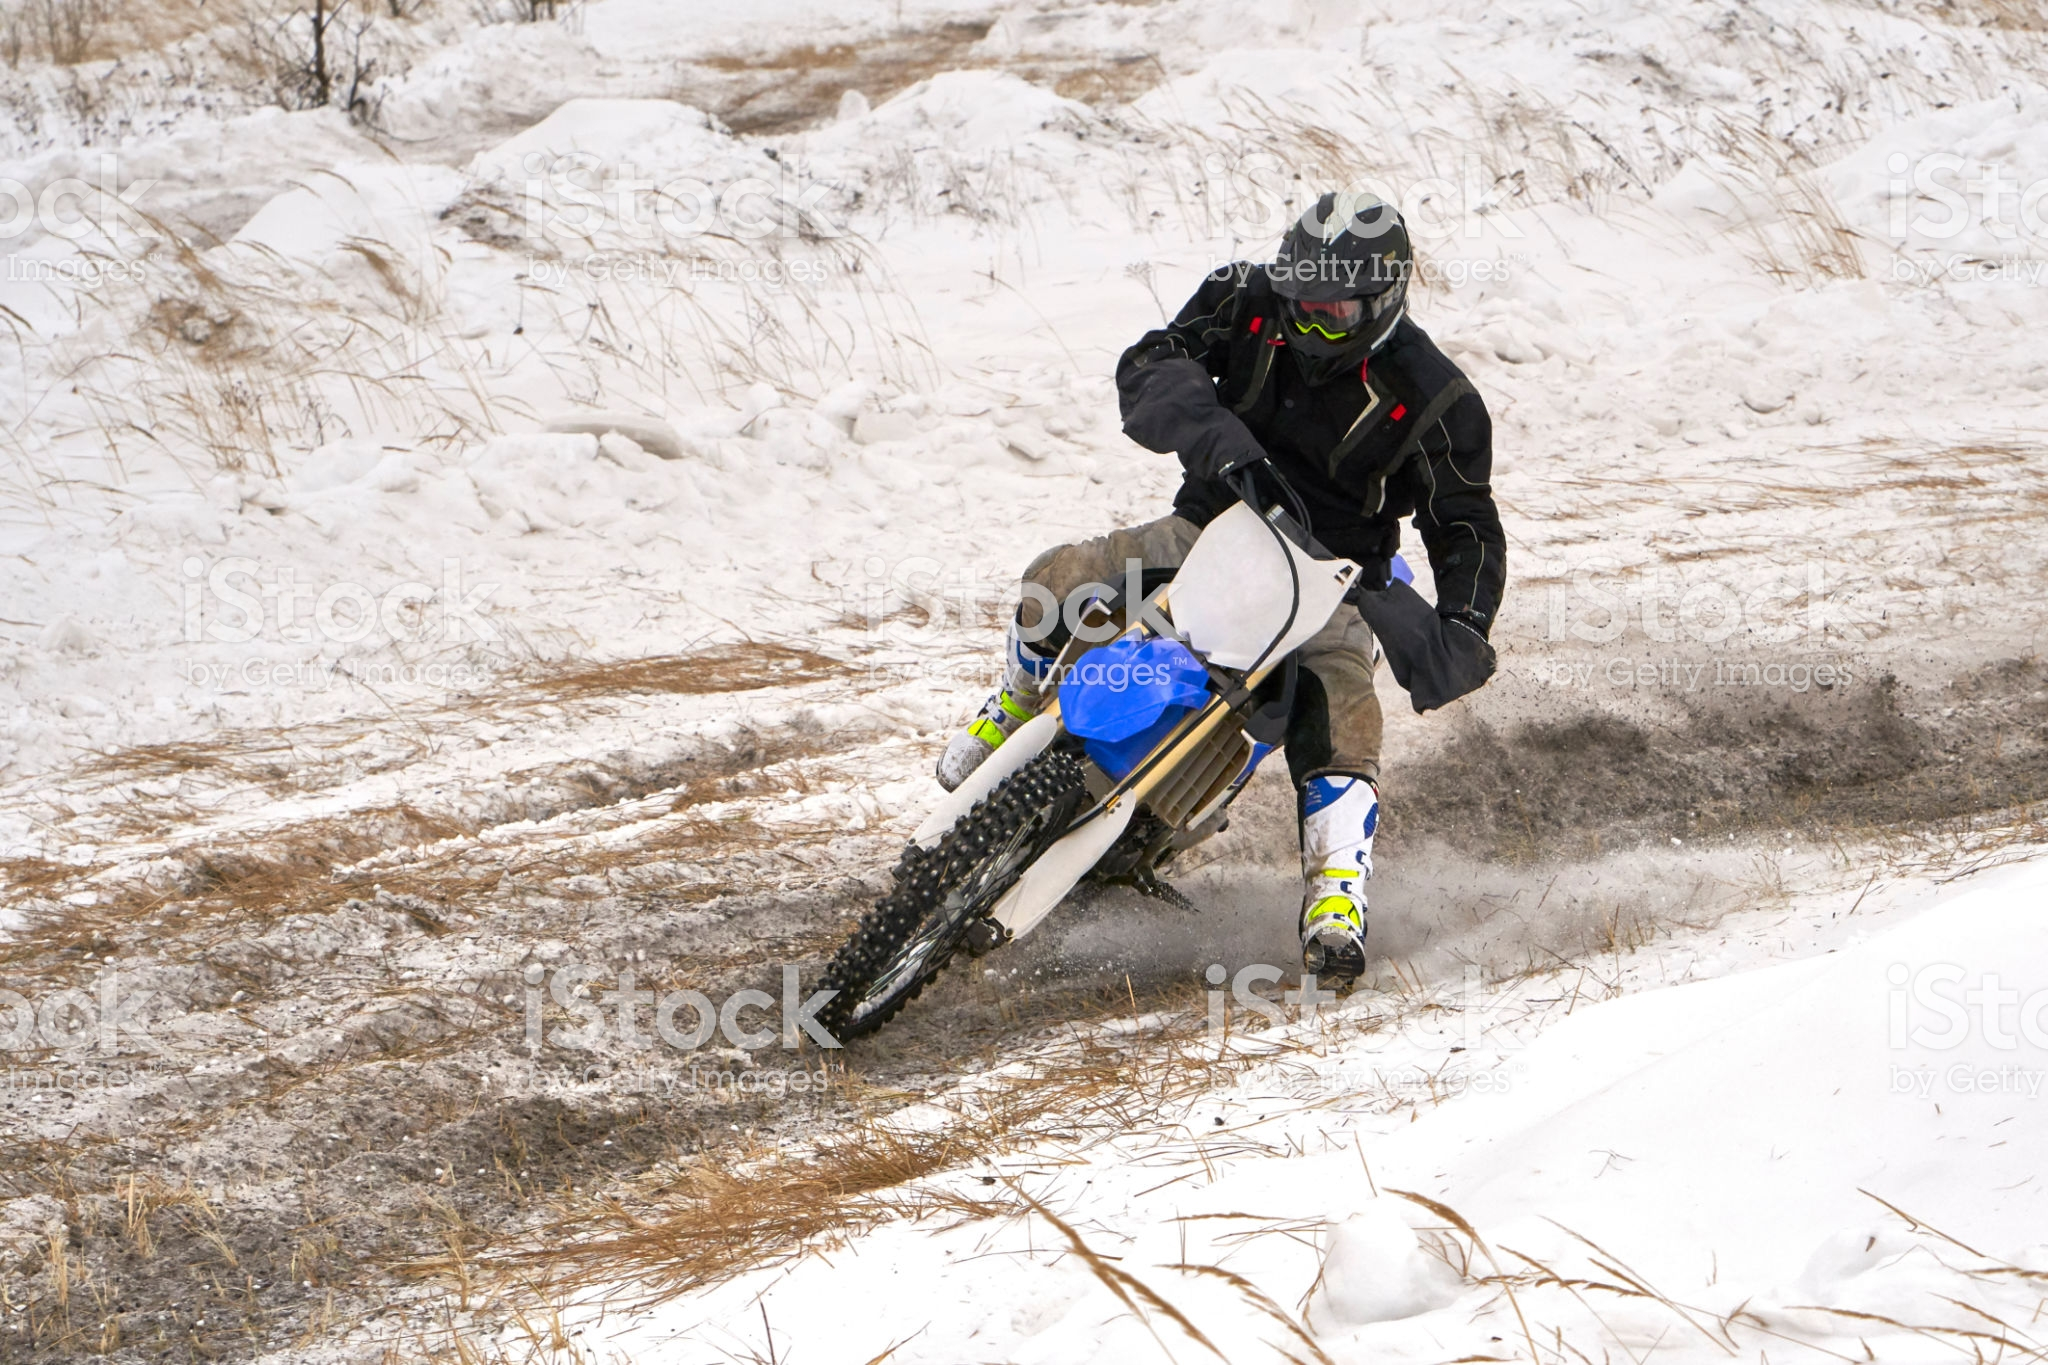helmet: (1244, 197, 1434, 363)
